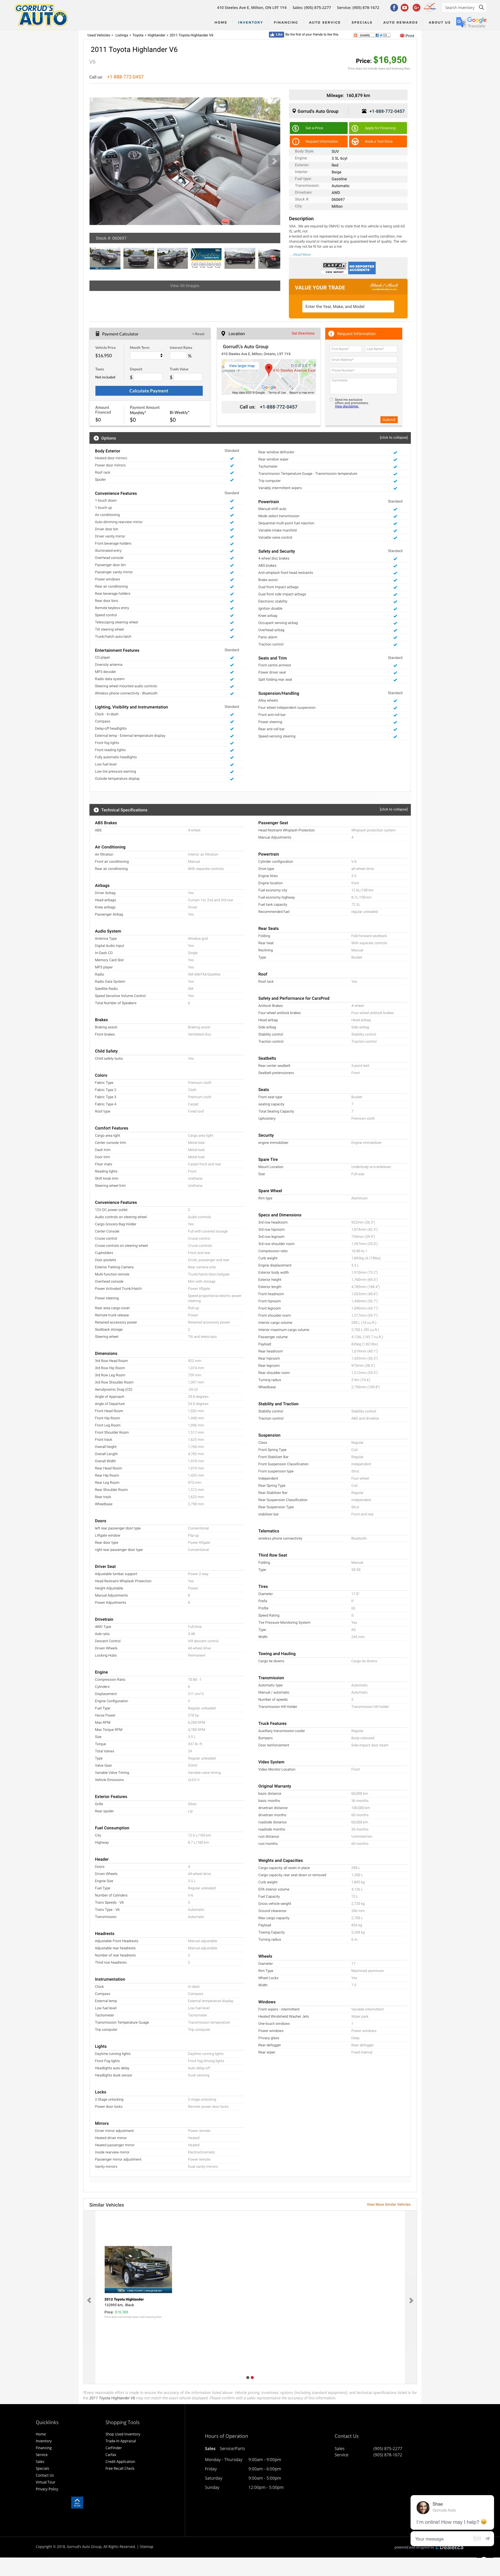car: (272, 158, 277, 166)
